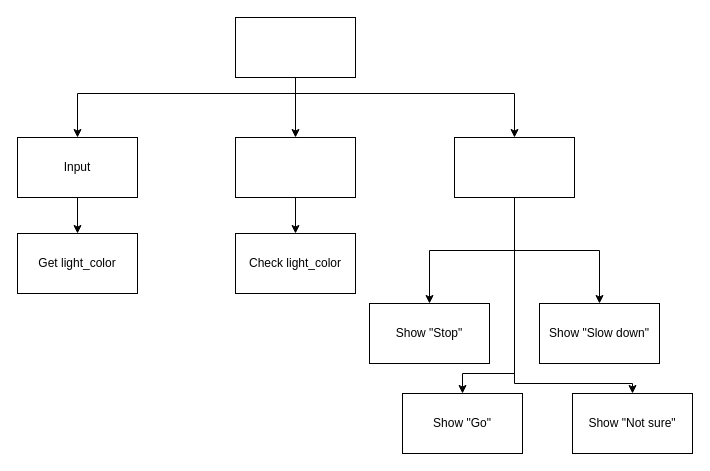
Image size: 710x471. Some labels were removed from this diagram. Here are the shapes that lost their labels. From the top down, the centre of each, then its label:
the point at 295,47: Car Driving
the point at 295,167: Process
the point at 514,167: Output
